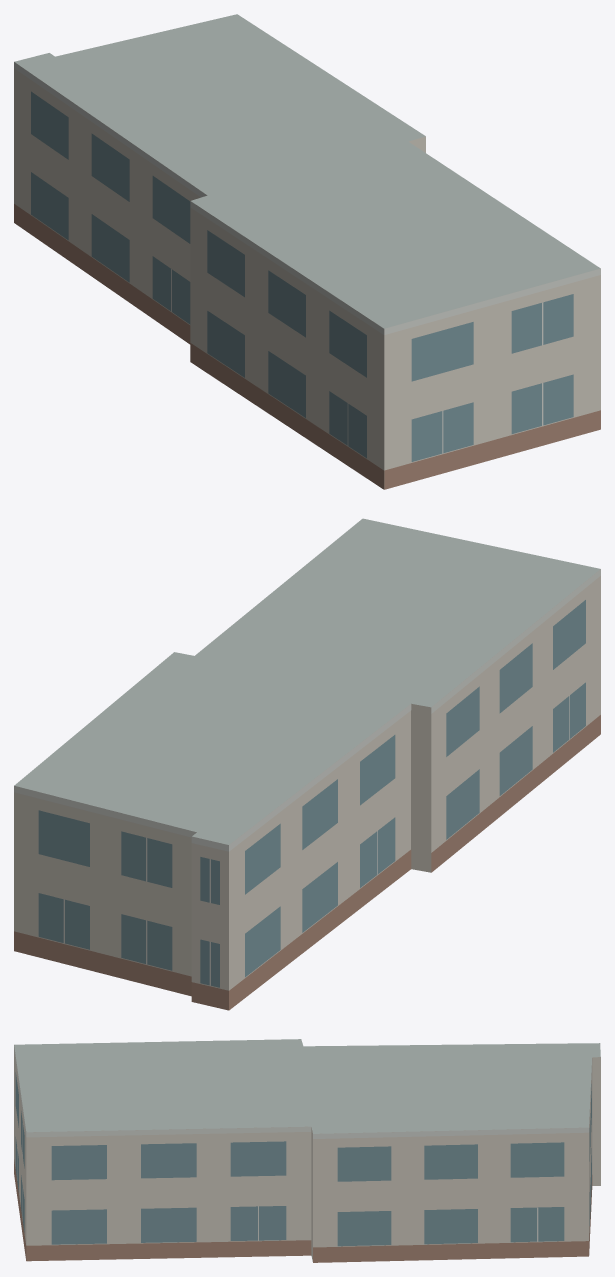
Rendered from survey-upis-32926185.glb.
3 views of the same model, one above another, from view 1: azimuth 30°, elevation 25°; view 2: azimuth 150°, elevation 25°; view 3: azimuth 270°, elevation 25° (orthographic). The views are drawn at different scales.
Parts seen in each view (by area): view 1: survey-upis-32926185.tmp; view 2: survey-upis-32926185.tmp; view 3: survey-upis-32926185.tmp.
Boxes of the visible parts, bbox=[...] form: survey-upis-32926185.tmp: bbox=[14, 14, 600, 489]; survey-upis-32926185.tmp: bbox=[14, 518, 600, 1010]; survey-upis-32926185.tmp: bbox=[14, 1039, 600, 1262].
Size of the model in its own units: 9.64 by 6.1 by 25.18.
